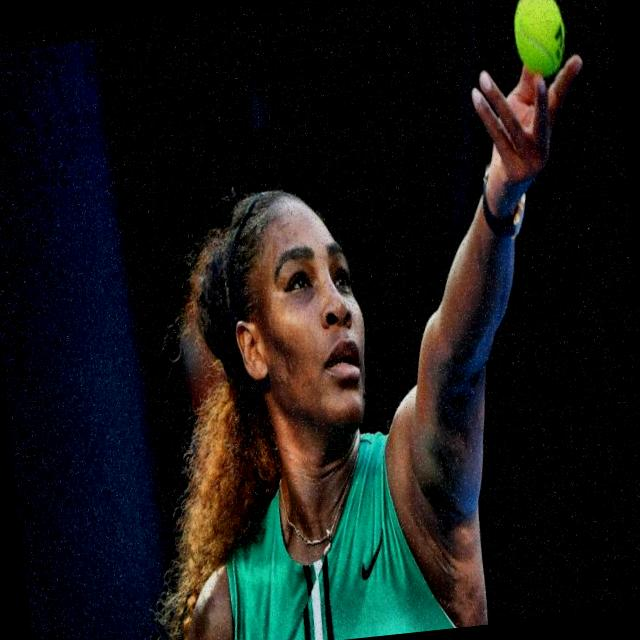Tennis Ball: (509, 0, 572, 81)
